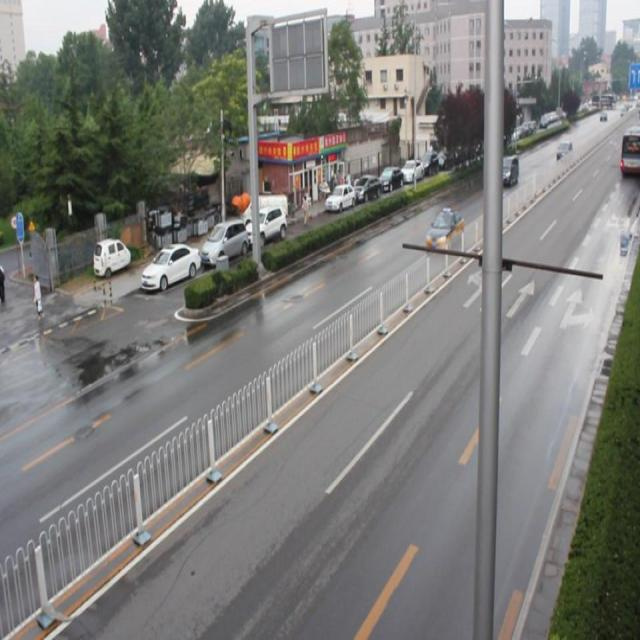car: (424, 208, 463, 249), (495, 157, 517, 182)
